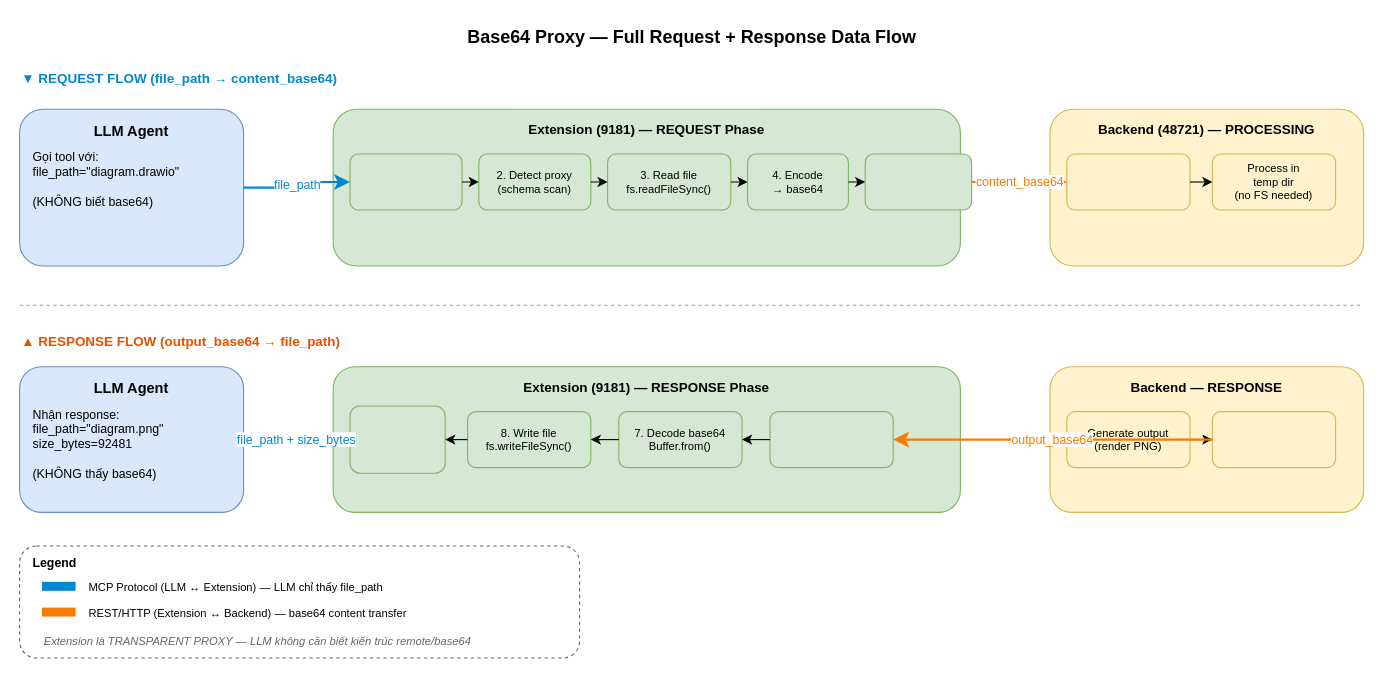
Some shapes in this 1383 by 678 pixel diagram are drawn without their labels. The shapes that lost their labels are listed below. From the top down, each one's centre as x and y in pixels, then its label:
point 405,181: 1. Intercept tools/call
point 918,181: 5. Forward to backend API
point 1128,181: Receive {content_base64}
point 397,439: 9. Return {file_path, size_bytes}
point 831,439: 6. Receive {output_base64}
point 1273,439: Encode result → output_base64
